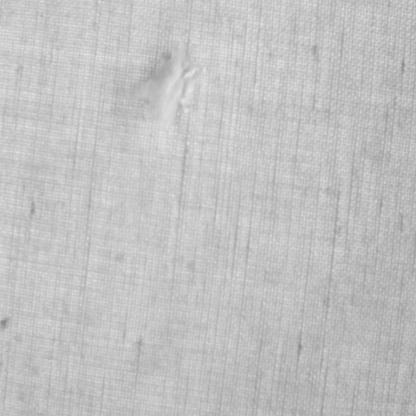objects: (132, 43, 202, 127)
